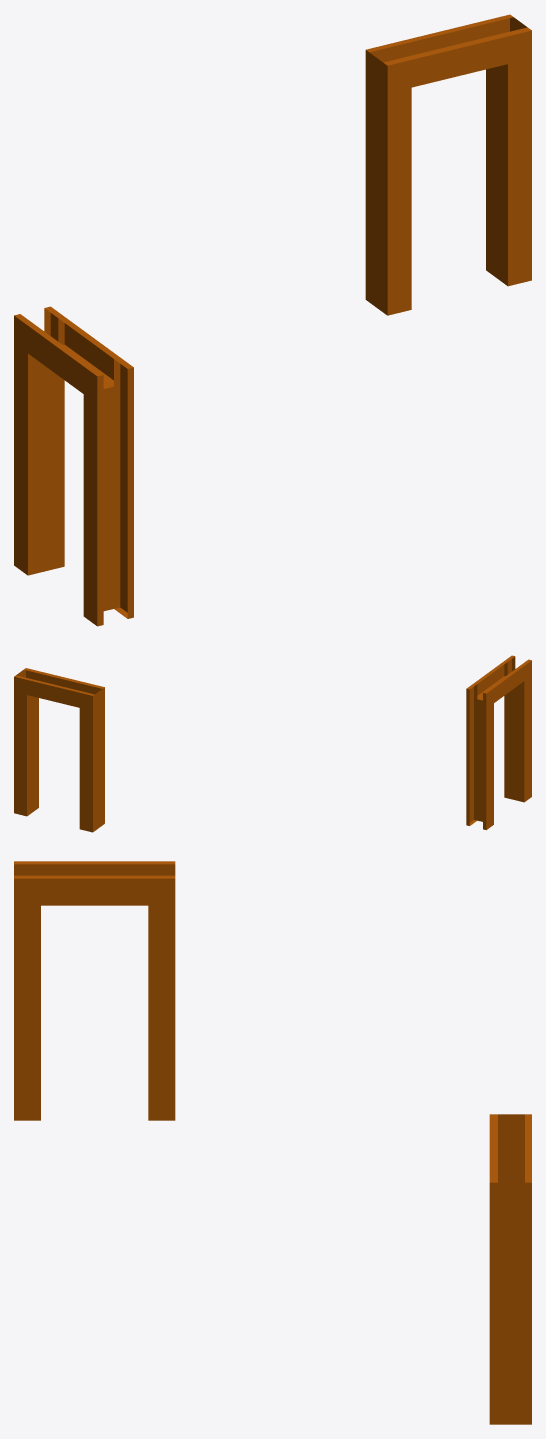
Rendered from factory_doors.glb.
The picture shows the model from 3 angles, top to bottom: view 1: azimuth 30°, elevation 25°; view 2: azimuth 150°, elevation 25°; view 3: azimuth 270°, elevation 25°; orthographic projection. The views are drawn at different scales.
Parts seen in each view (by area): view 1: Grid.009; view 2: Grid.009; view 3: Grid.009.
Boxes of the visible parts, box(x1,y1,x2,y2) form: Grid.009: box(14, 14, 531, 626); Grid.009: box(14, 655, 531, 832); Grid.009: box(14, 861, 531, 1424).
Size of the model in its own units: 26.92 by 9.45 by 18.35.
